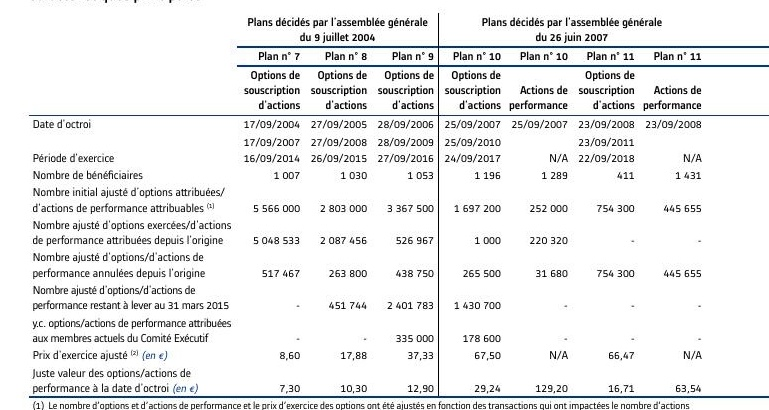table: (0, 0, 769, 410)
